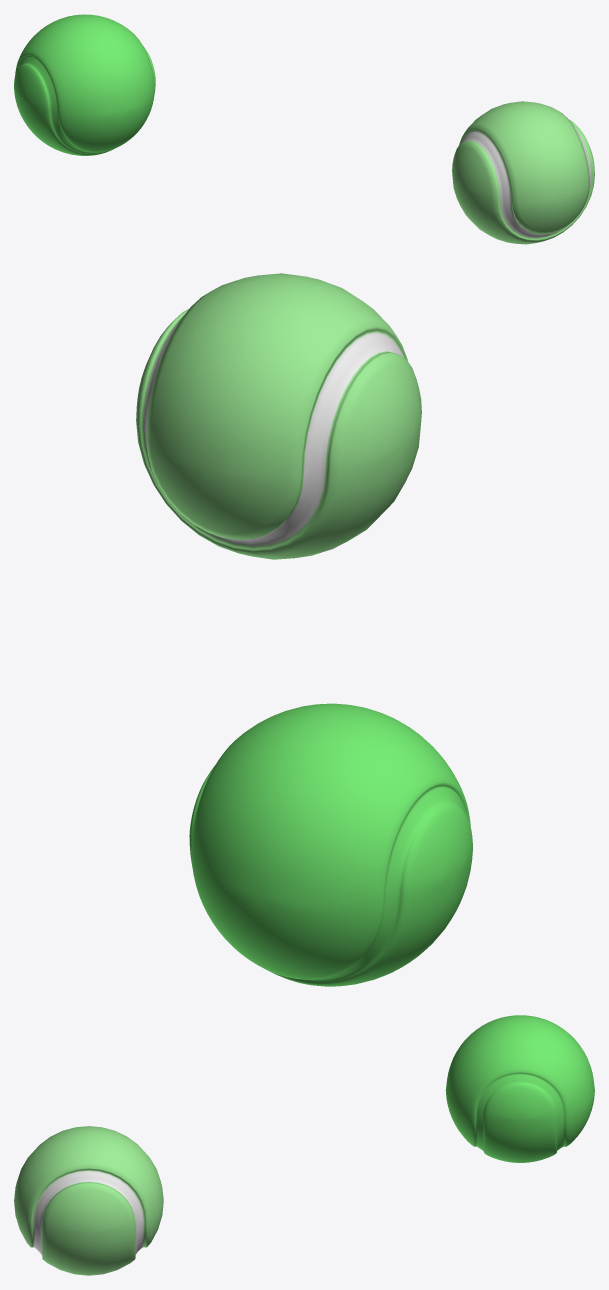
The model's file is tenis ball.fbx.
3 views of the same model, one above another, from view 1: azimuth 30°, elevation 25°; view 2: azimuth 150°, elevation 25°; view 3: azimuth 270°, elevation 25° (orthographic). The views are drawn at different scales.
Parts seen in each view (by area): view 1: Sphere.001, Sphere; view 2: Sphere.001, Sphere; view 3: Sphere.001, Sphere.
Part boxes in pixels (<box>): Sphere.001: <box>452,101,594,244</box>; Sphere: <box>14,14,155,155</box>; Sphere.001: <box>136,273,421,559</box>; Sphere: <box>189,703,472,986</box>; Sphere.001: <box>14,1126,163,1275</box>; Sphere: <box>445,1015,594,1162</box>.
Size of the model in its own units: 574 by 209 by 776.
